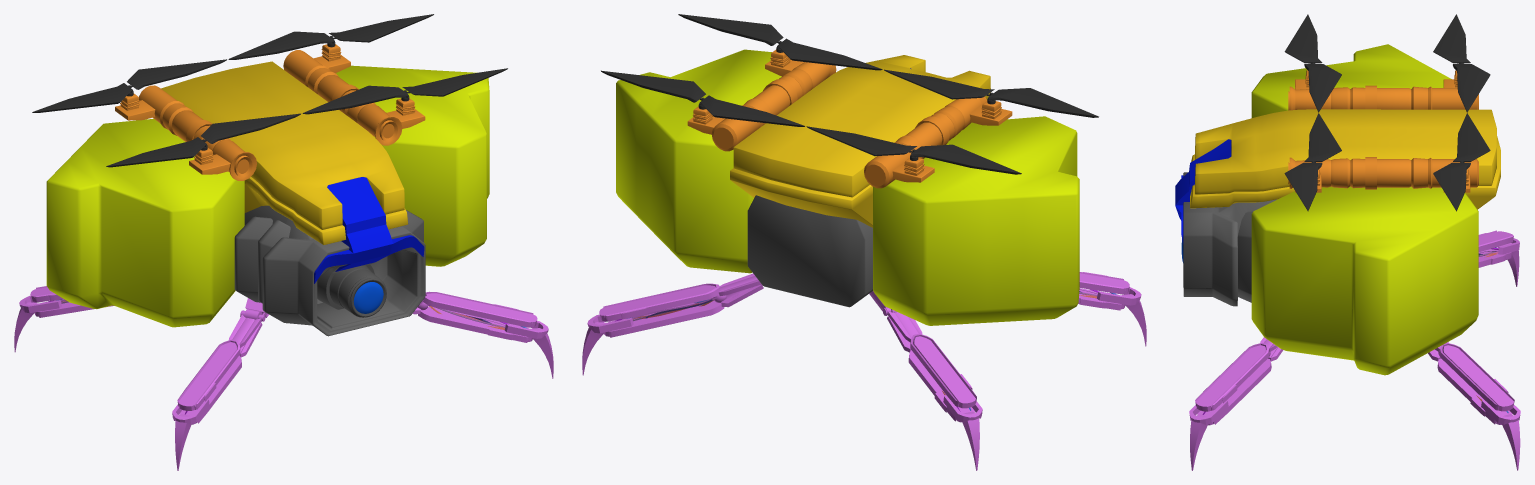
File: Drone.fbx
3 views of the same model, side by side, from view 1: azimuth 30°, elevation 25°; view 2: azimuth 150°, elevation 25°; view 3: azimuth 270°, elevation 25° (orthographic). The views are drawn at different scales.
Visible parts, largest first — view 1: SideCase, MiddleCase, Brain, Motor, Frontblue, Cube.011, Cube.008, Eye, Helice.001, Helice.003, Helice.002, Helice (+1 smaller); view 2: SideCase, MiddleCase, Brain, Motor, Cube.012, Cube.009, Helice, Helice.002, Helice.003, Helice.001, Cube.008; view 3: SideCase, MiddleCase, Motor, Brain, Cube.011, Cube.012, Helice.003, Helice.002, Helice, Helice.001, Frontblue, Cube.009 (+2 smaller).
Part boxes in pixels (x1,y1,x2,y2): SideCase: (46, 65, 489, 327); MiddleCase: (161, 61, 408, 244); Brain: (234, 205, 425, 336); Motor: (115, 44, 425, 180); Frontblue: (314, 177, 424, 283); Cube.011: (413, 291, 548, 342); Cube.008: (172, 314, 262, 424); Eye: (317, 264, 386, 317); Helice.001: (302, 68, 507, 114); Helice.003: (228, 14, 433, 59); Helice.002: (106, 113, 300, 167); Helice: (32, 59, 226, 112); SideCase: (616, 49, 1079, 325); MiddleCase: (730, 55, 990, 227); Brain: (747, 195, 872, 307); Motor: (687, 49, 1012, 188); Cube.012: (587, 273, 763, 337); Cube.009: (887, 311, 982, 422); Helice: (806, 126, 1021, 174); Helice.002: (884, 69, 1098, 117); Helice.003: (601, 70, 804, 126); Helice.001: (678, 14, 882, 70); Cube.008: (1078, 272, 1141, 310); SideCase: (1251, 44, 1478, 375); MiddleCase: (1190, 109, 1500, 209); Motor: (1288, 70, 1478, 192); Brain: (1183, 172, 1276, 306); Cube.011: (1189, 337, 1283, 425); Cube.012: (1428, 342, 1520, 424); Helice.003: (1433, 113, 1490, 211); Helice.002: (1284, 14, 1341, 112); Helice: (1433, 14, 1490, 112); Helice.001: (1284, 113, 1341, 211); Frontblue: (1175, 139, 1231, 243); Cube.009: (1478, 230, 1519, 267).
Size of the model in its own units: 416 by 240 by 282.
